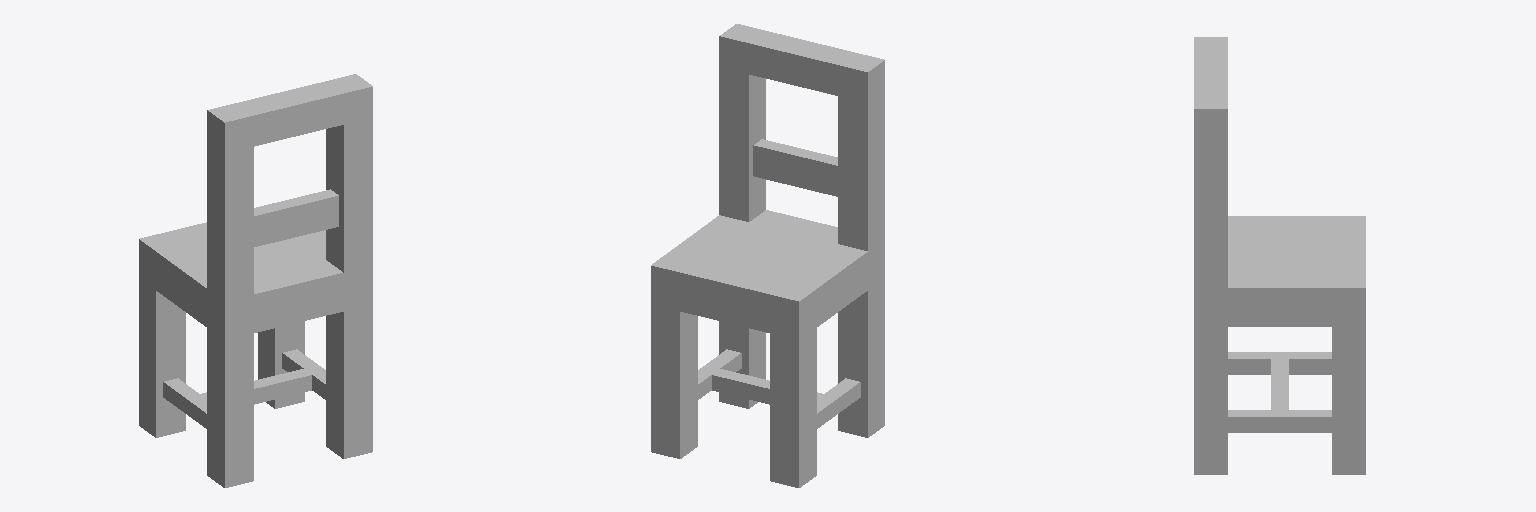
Rendered from chair.obj.
The picture shows the model from 3 angles: view 1: azimuth 30°, elevation 25°; view 2: azimuth 150°, elevation 25°; view 3: azimuth 270°, elevation 25°; orthographic projection.
Parts seen in each view (by area): view 1: chair; view 2: chair; view 3: chair.
Part boxes in pixels (x1,y1,x2,y2): chair: (139,74,372,487); chair: (651,24,884,487); chair: (1194,37,1365,474).
Size of the model in its own units: 0.2 by 0.47 by 0.2.